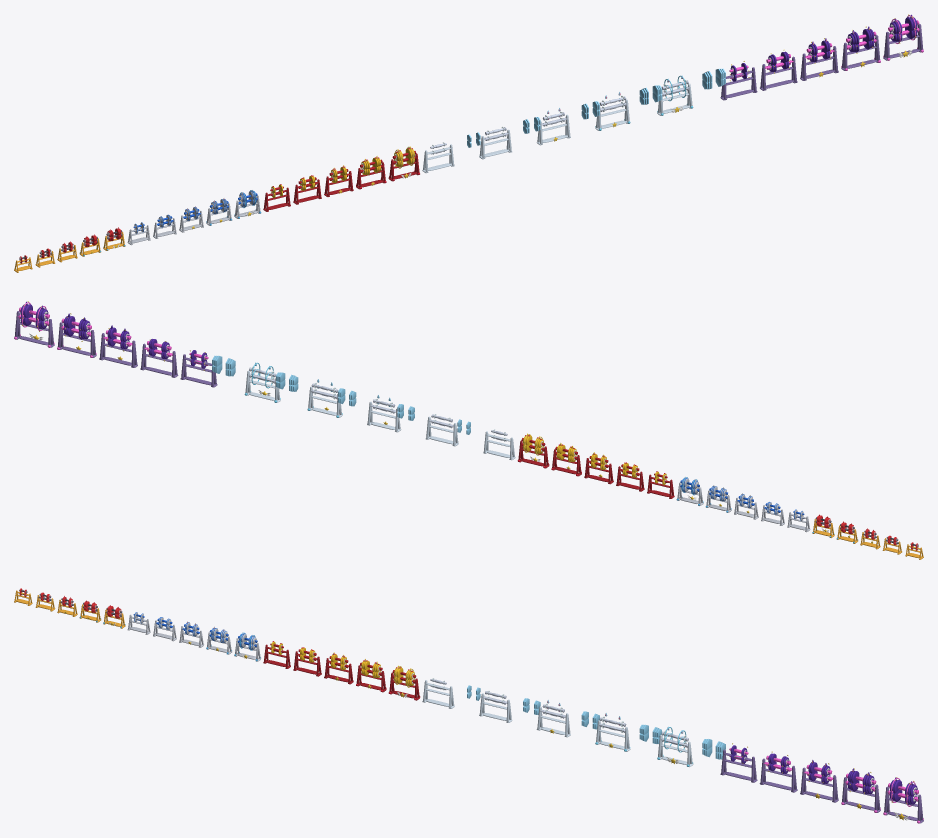
The model's file is Weights.fbx.
3 views of the same model, one above another, from view 1: azimuth 30°, elevation 25°; view 2: azimuth 150°, elevation 25°; view 3: azimuth 330°, elevation 25° (orthographic).
Parts seen in each view (by area): view 1: Weights25, Weights24, Weights23, Weights22, Weights20, Weights21, Weights15, Weights19, Weights18, Weights14, Weights17; view 2: Weights25, Weights24, Weights23, Weights22, Weights20, Weights15, Weights21, Weights19, Weights14, Weights18, Weights17; view 3: Weights25, Weights24, Weights23, Weights22, Weights20, Weights21, Weights15, Weights19, Weights18, Weights14, Weights17, Weights13 (+1 smaller).
Boxes of the visible parts, x1=… form: Weights25: x1=883, y1=14, x2=923, y2=60; Weights24: x1=841, y1=26, x2=880, y2=70; Weights23: x1=800, y1=38, x2=838, y2=80; Weights22: x1=760, y1=49, x2=797, y2=90; Weights20: x1=657, y1=75, x2=693, y2=115; Weights21: x1=720, y1=61, x2=757, y2=100; Weights15: x1=388, y1=146, x2=419, y2=181; Weights19: x1=595, y1=92, x2=630, y2=130; Weights18: x1=536, y1=108, x2=570, y2=145; Weights14: x1=356, y1=156, x2=386, y2=189; Weights17: x1=479, y1=126, x2=512, y2=159; Weights25: x1=14, y1=301, x2=54, y2=347; Weights24: x1=57, y1=313, x2=96, y2=357; Weights23: x1=99, y1=325, x2=137, y2=367; Weights22: x1=140, y1=339, x2=178, y2=377; Weights20: x1=244, y1=362, x2=280, y2=402; Weights15: x1=517, y1=433, x2=549, y2=468; Weights21: x1=180, y1=350, x2=217, y2=387; Weights19: x1=307, y1=379, x2=342, y2=417; Weights14: x1=551, y1=443, x2=581, y2=476; Weights18: x1=367, y1=395, x2=401, y2=432; Weights17: x1=425, y1=414, x2=458, y2=446; Weights25: x1=883, y1=777, x2=923, y2=823; Weights24: x1=841, y1=768, x2=880, y2=812; Weights23: x1=800, y1=760, x2=838, y2=802; Weights22: x1=759, y1=751, x2=797, y2=792; Weights20: x1=657, y1=726, x2=693, y2=767; Weights21: x1=720, y1=743, x2=757, y2=782; Weights15: x1=388, y1=665, x2=420, y2=700; Weights19: x1=595, y1=713, x2=630, y2=751; Weights18: x1=536, y1=700, x2=570, y2=737; Weights14: x1=356, y1=659, x2=386, y2=692; Weights17: x1=479, y1=690, x2=512, y2=722; Weights13: x1=324, y1=652, x2=353, y2=684.
Bounding box in the file's own units: 164 × 6.81 × 2.98.
1 material, 1 textured.
